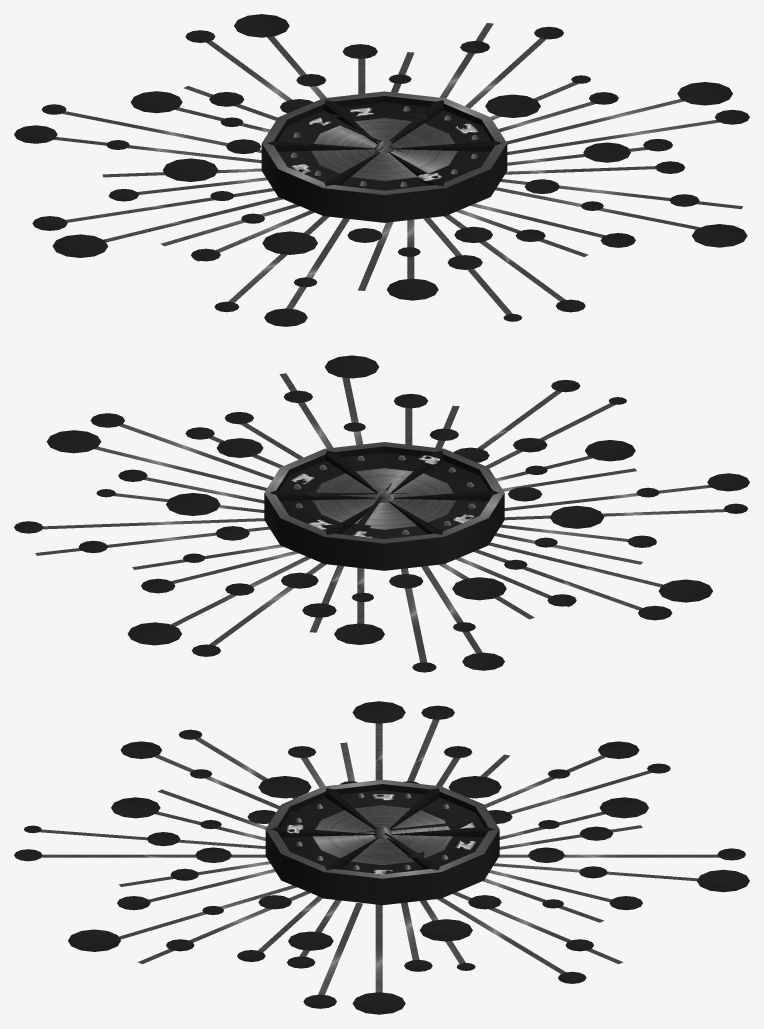
File: Clock_02_A.FBX
3 renders of one model, top to bottom at view 1: azimuth 30°, elevation 25°; view 2: azimuth 150°, elevation 25°; view 3: azimuth 270°, elevation 25°, orthographic. The views are drawn at different scales.
Parts seen in each view (by area): view 1: Starburst_Clock_B; view 2: Starburst_Clock_B; view 3: Starburst_Clock_B.
Part boxes in pixels (x1,y1,x2,y2): Starburst_Clock_B: [14, 14, 749, 326]; Starburst_Clock_B: [14, 355, 749, 672]; Starburst_Clock_B: [14, 701, 749, 1014].
Size of the model in its own units: 76.01 by 3.32 by 75.43.
